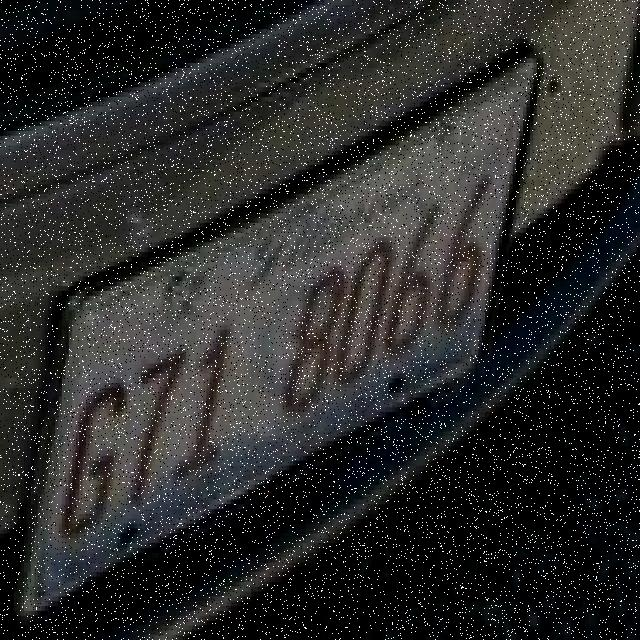licenseplate: (51, 60, 514, 581)
